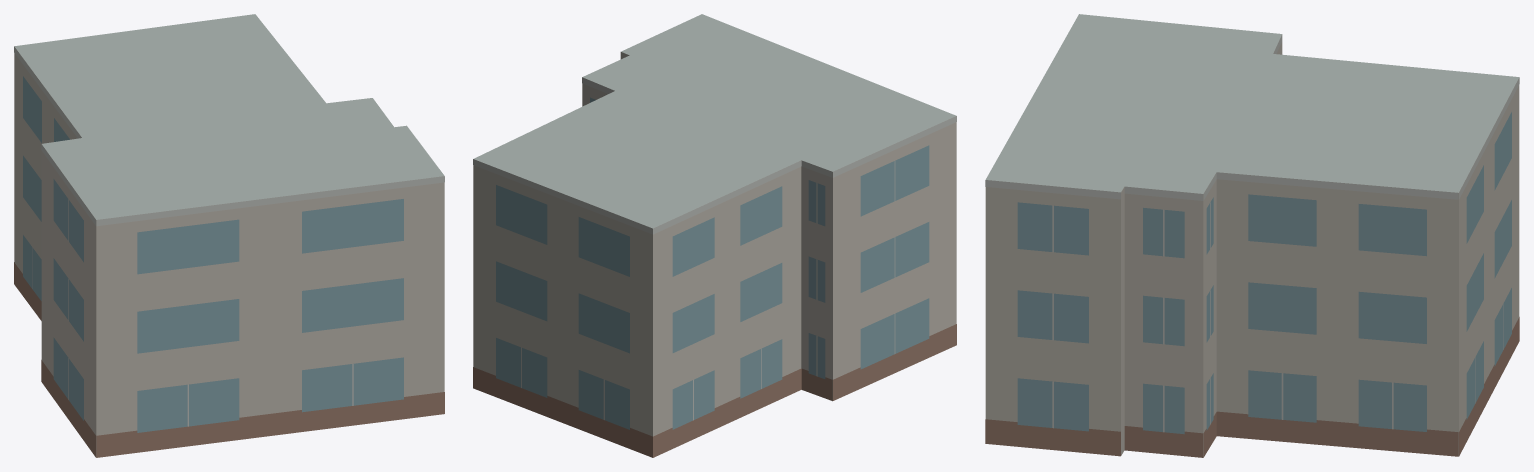
File: survey-upis-32713452.glb
3 renders of one model, left to right at view 1: azimuth 30°, elevation 25°; view 2: azimuth 150°, elevation 25°; view 3: azimuth 270°, elevation 25°, orthographic. The views are drawn at different scales.
Parts seen in each view (by area): view 1: survey-upis-32713452.tmp; view 2: survey-upis-32713452.tmp; view 3: survey-upis-32713452.tmp.
Boxes of the visible parts, x1=… form: survey-upis-32713452.tmp: x1=14, y1=14, x2=444, y2=457; survey-upis-32713452.tmp: x1=473, y1=14, x2=956, y2=457; survey-upis-32713452.tmp: x1=985, y1=14, x2=1519, y2=457.
Size of the model in its own units: 13.39 by 9.15 by 16.79.
